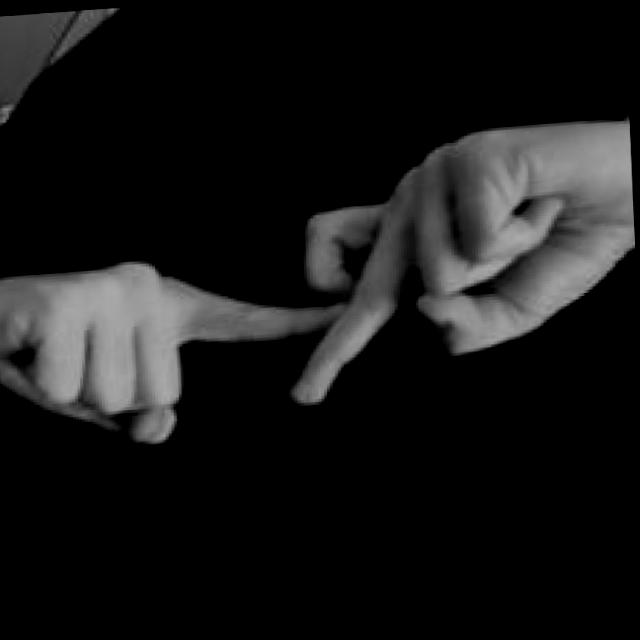R: (0, 79, 639, 467)
